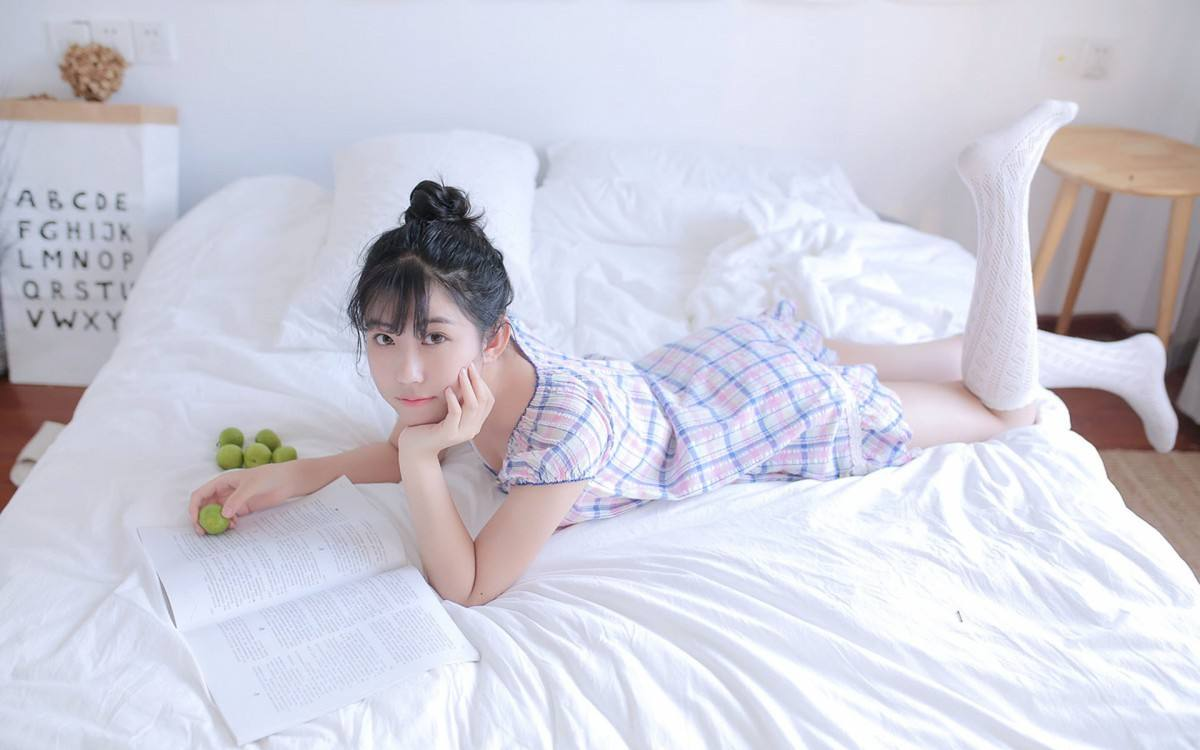person: (310, 164, 1049, 592)
